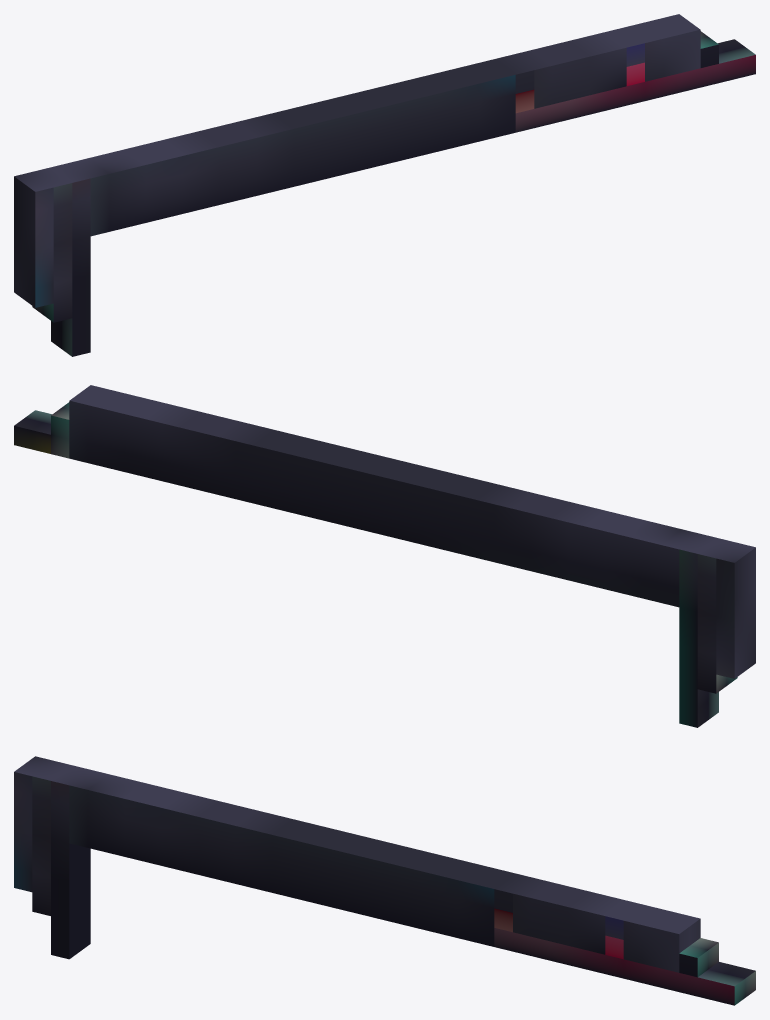
Rendered from Electronics_Stick_B_00.fbx.
The picture shows the model from 3 angles, top to bottom: view 1: azimuth 30°, elevation 25°; view 2: azimuth 150°, elevation 25°; view 3: azimuth 330°, elevation 25°; orthographic projection.
Parts seen in each view (by area): view 1: Electronics_Stick_B_00; view 2: Electronics_Stick_B_00; view 3: Electronics_Stick_B_00.
Boxes of the visible parts, x1,y1,x2,y2 form: Electronics_Stick_B_00: (14,14,755,356); Electronics_Stick_B_00: (14,385,755,727); Electronics_Stick_B_00: (14,756,755,1005).
Size of the model in its own units: 195 by 45 by 10.
